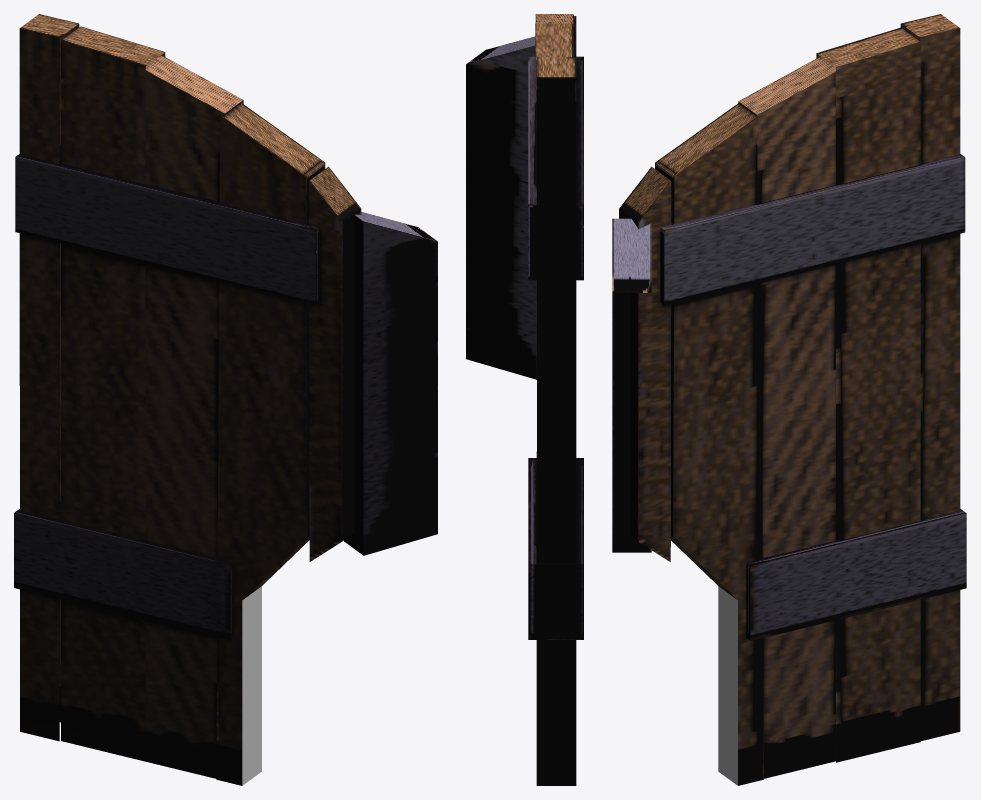
Rendered from DoorSide1F6.obj.
The picture shows the model from 3 angles, left to right: view 1: azimuth 30°, elevation 25°; view 2: azimuth 150°, elevation 25°; view 3: azimuth 270°, elevation 25°; orthographic projection.
Visible parts, largest first — view 1: object 2, DoorSide1F6_Cube.435; view 2: object 2; view 3: object 2, DoorSide1F6_Cube.435.
Boxes of the visible parts, x1,y1,x2,y2 form: object 2: (14, 14, 437, 785); DoorSide1F6_Cube.435: (242, 586, 261, 785); object 2: (466, 14, 583, 785); object 2: (612, 14, 966, 785); DoorSide1F6_Cube.435: (718, 586, 737, 785).
Size of the model in its own units: 69.13 by 178 by 81.44.
